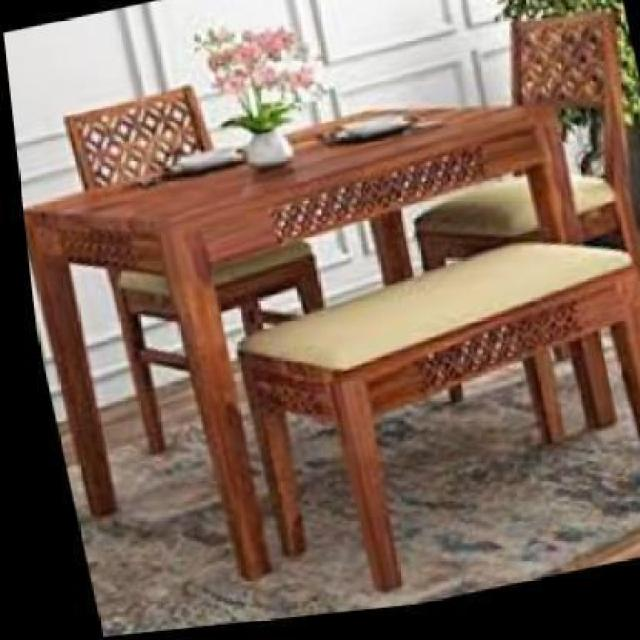tables: (22, 99, 589, 583)
